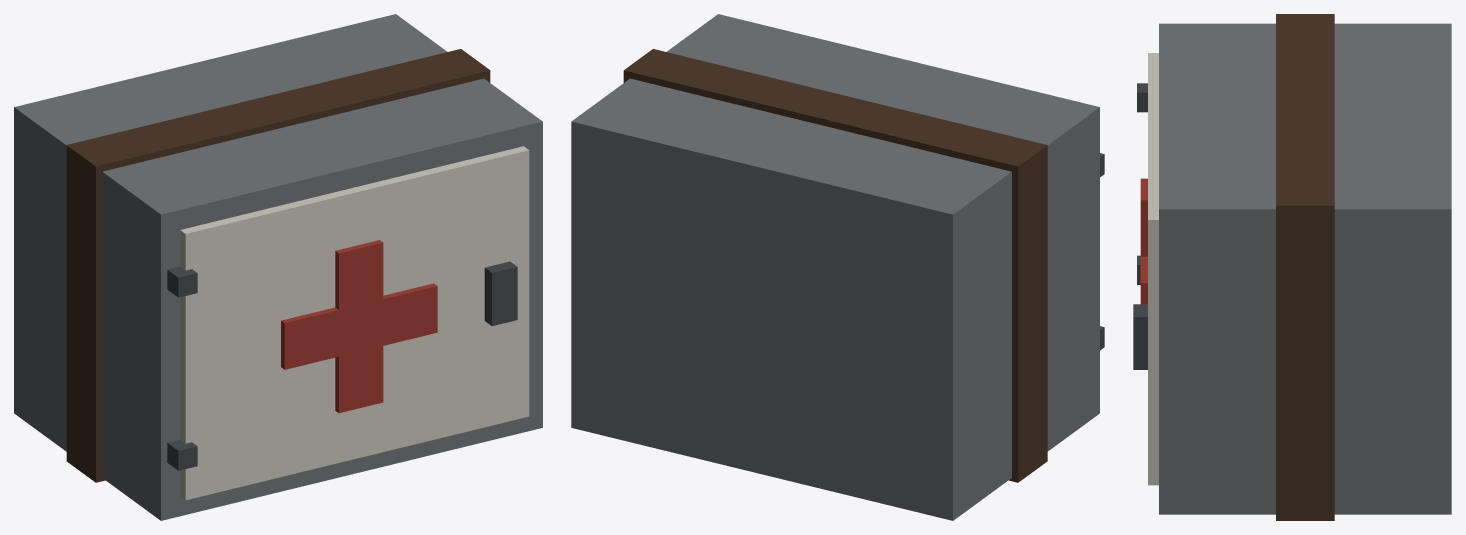
File: upg_medkit_locker.glb
3 renders of one model, left to right at view 1: azimuth 30°, elevation 25°; view 2: azimuth 150°, elevation 25°; view 3: azimuth 270°, elevation 25°, orthographic.
Parts seen in each view (by area): view 1: medkit_locker; view 2: medkit_locker; view 3: medkit_locker.
Part boxes in pixels (x1,y1,x2,y2): medkit_locker: (14,14,542,520); medkit_locker: (571,14,1104,520); medkit_locker: (1133,14,1451,520).
Bounding box in the file's own units: 0.62 × 0.475 × 0.435.
